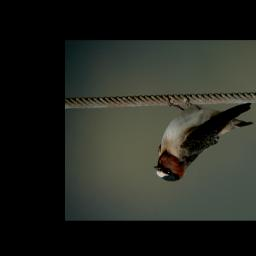Swallow: (150, 97, 255, 185)
